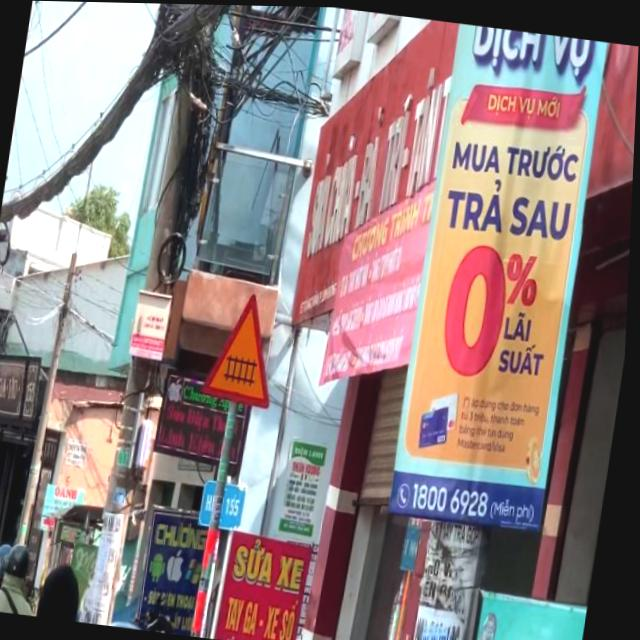Giao nhau voi duong sat co rao chan: (202, 284, 291, 417)
